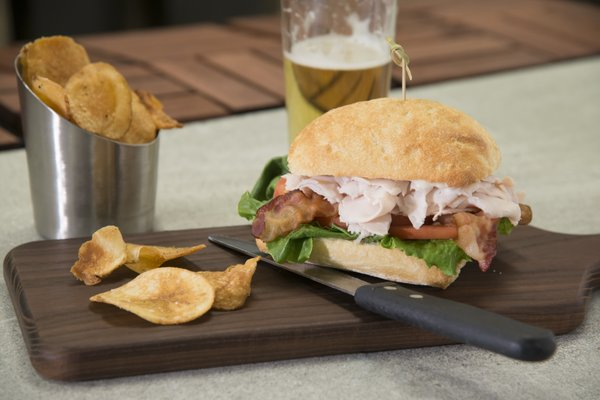pizza: (16, 64, 161, 239), (280, 0, 401, 146)
sandwich: (205, 233, 579, 361)
soup: (242, 96, 528, 287)
